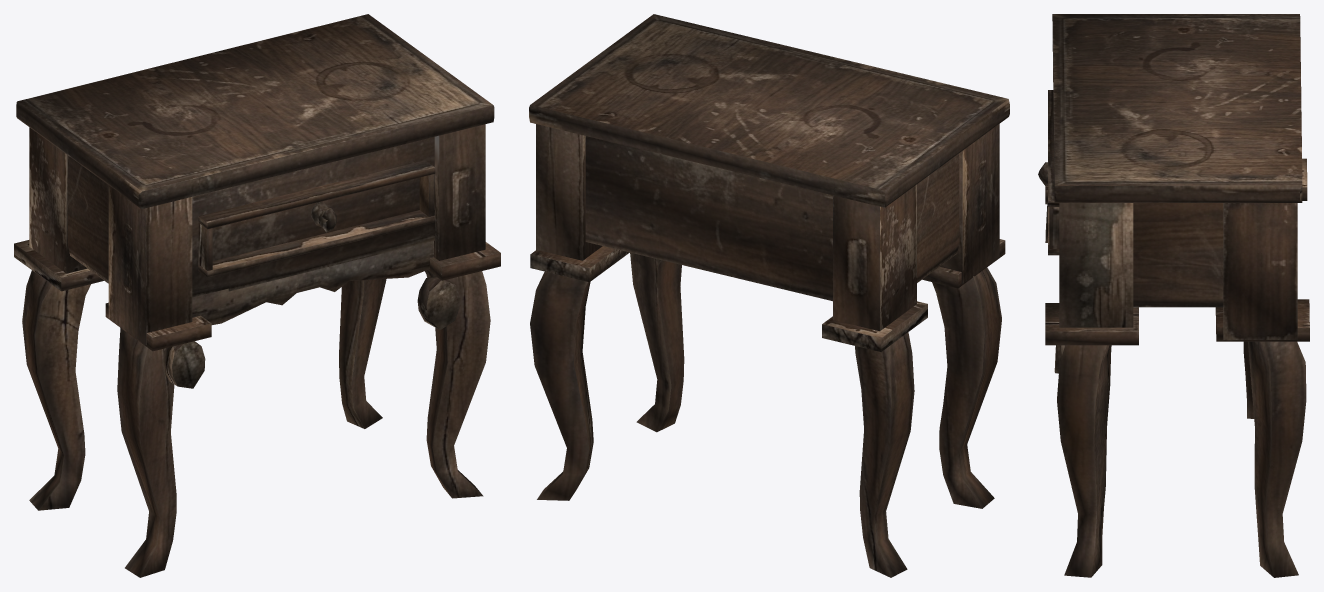
The model's file is NightTableBrkn.fbx.
3 renders of one model, left to right at view 1: azimuth 30°, elevation 25°; view 2: azimuth 150°, elevation 25°; view 3: azimuth 270°, elevation 25°, orthographic.
Visible parts, largest first — view 1: pasted__pasted__pasted__pasted__pCube5; view 2: pasted__pasted__pasted__pasted__pCube5; view 3: pasted__pasted__pasted__pasted__pCube5.
Part boxes in pixels (x1,y1,x2,y2): pasted__pasted__pasted__pasted__pCube5: (14, 14, 500, 577); pasted__pasted__pasted__pasted__pCube5: (529, 14, 1009, 577); pasted__pasted__pasted__pasted__pCube5: (1038, 14, 1309, 577).
Size of the model in its own units: 108 by 111 by 69.97.
1 material, 1 textured.
